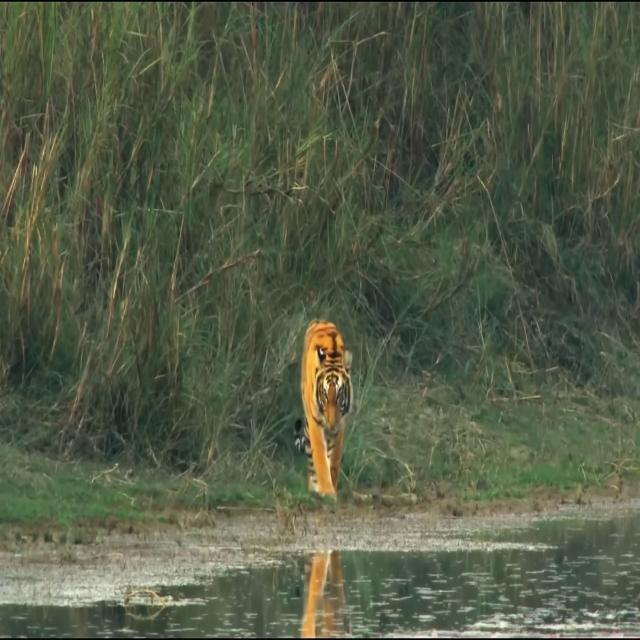tiger: (301, 319, 353, 502)
